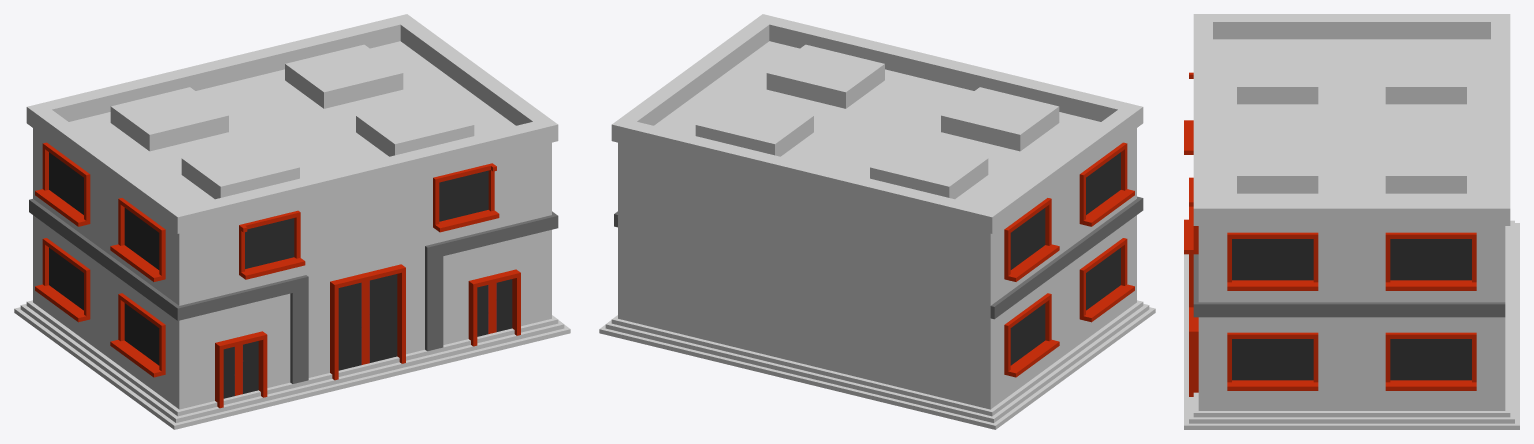
Rendered from Building_7.fbx.
The picture shows the model from 3 angles, left to right: view 1: azimuth 30°, elevation 25°; view 2: azimuth 150°, elevation 25°; view 3: azimuth 270°, elevation 25°; orthographic projection. The views are drawn at different scales.
Visible parts, largest first — view 1: Building_7; view 2: Building_7; view 3: Building_7.
Boxes of the visible parts, x1,y1,x2,y2 form: Building_7: (14,14,570,429); Building_7: (599,14,1155,429); Building_7: (1184,14,1519,429).
Size of the model in its own units: 100 by 50 by 70.
1 material, 1 textured.
